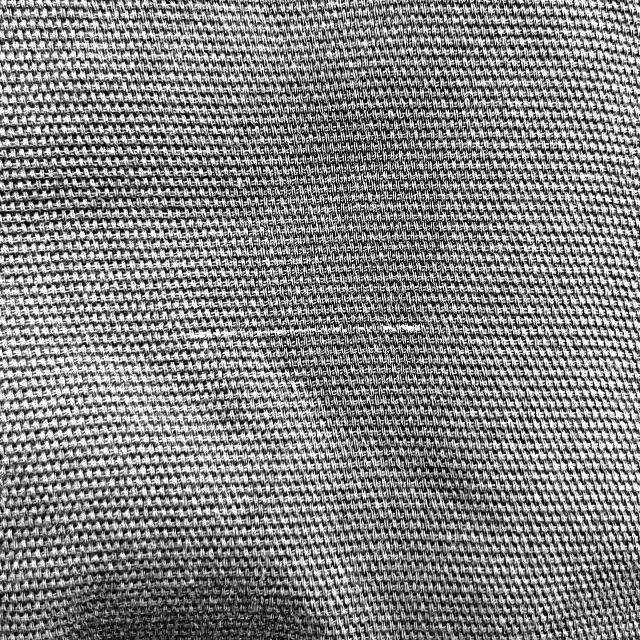Foreign_yarn: (142, 310, 457, 343)
